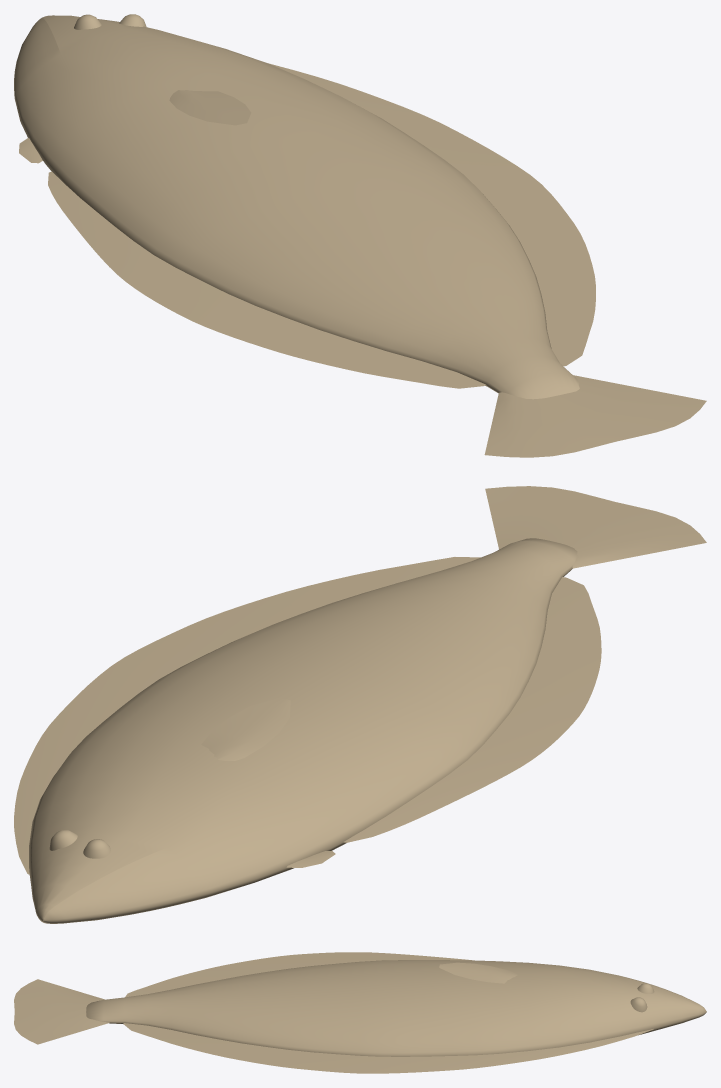
File: california_halibut_game.glb
The picture shows the model from 3 angles, top to bottom: view 1: azimuth 30°, elevation 25°; view 2: azimuth 150°, elevation 25°; view 3: azimuth 270°, elevation 25°; orthographic projection. The views are drawn at different scales.
Visible parts, largest first — view 1: california_halibut_game; view 2: california_halibut_game; view 3: california_halibut_game.
Boxes of the visible parts, x1,y1,x2,y2 form: california_halibut_game: [14, 14, 706, 457]; california_halibut_game: [14, 486, 706, 923]; california_halibut_game: [14, 952, 706, 1073].
Bounding box in the file's own units: 0.415 × 0.0837 × 0.9996.
